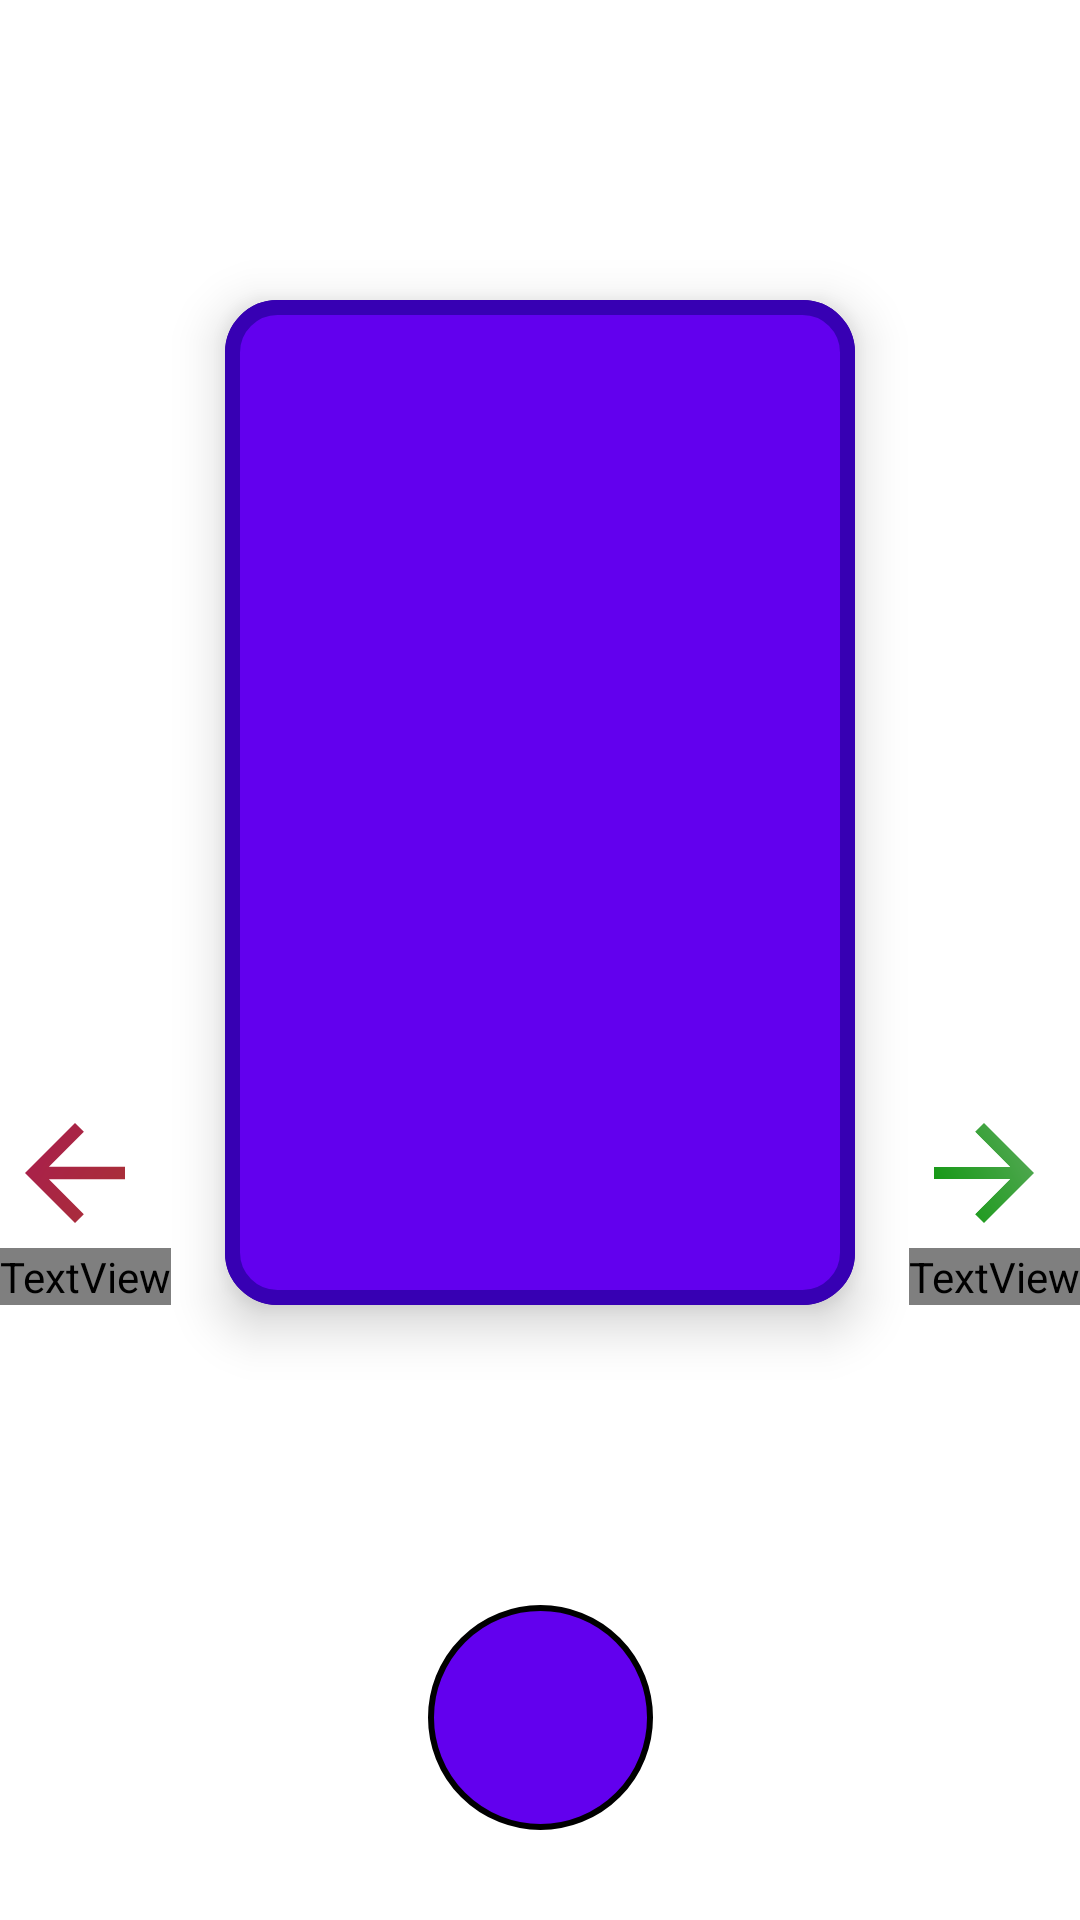

Point at icon controls on the screen. Image size 1080px×1920px, points as (x=x, y=y).
arrow left: (x=75, y=1173)
arrow right: (x=984, y=1173)
